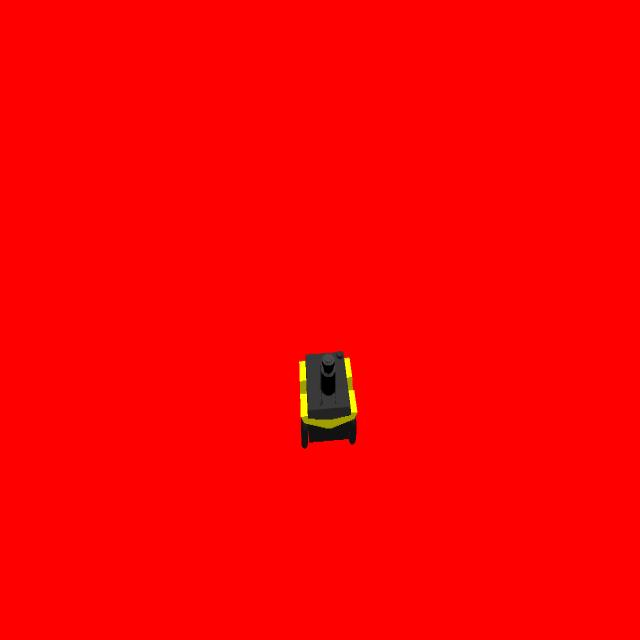jackal: (296, 342, 358, 454)
